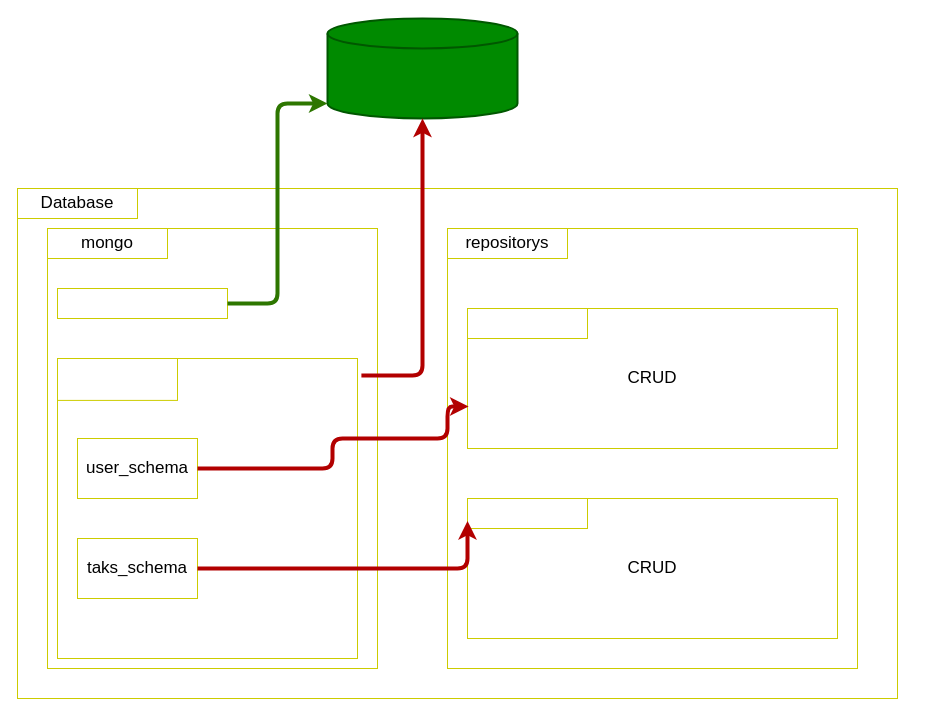
This 925x716 diagram has some shape labels left out. Each missing label, with the centre of its shape:
connection database: the point at 142,303
schemas: the point at 117,379
taks: the point at 527,513
user: the point at 527,323
